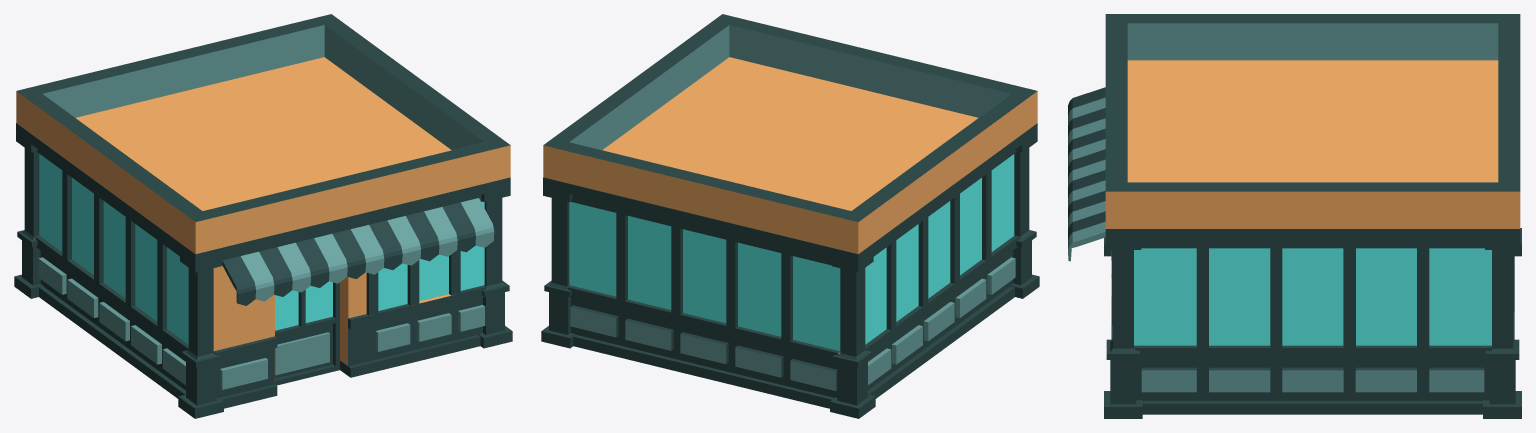
The model's file is Building_3.glb.
3 views of the same model, side by side, from view 1: azimuth 30°, elevation 25°; view 2: azimuth 150°, elevation 25°; view 3: azimuth 270°, elevation 25° (orthographic). The views are drawn at different scales.
Parts seen in each view (by area): view 1: Building 3; view 2: Building 3; view 3: Building 3.
Part boxes in pixels (x1,y1,x2,y2): Building 3: (14,14,512,418); Building 3: (541,14,1039,418); Building 3: (1068,14,1521,418).
Bounding box in the file's own units: 6.09 × 3.59 × 6.52.
